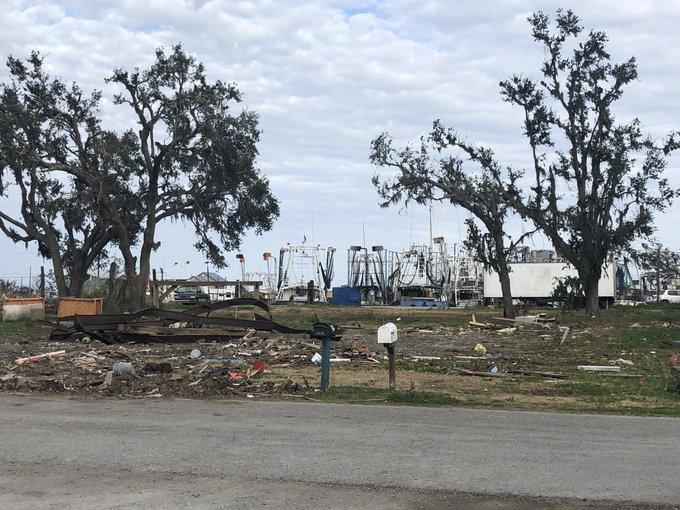destroyed: (49, 291, 643, 392)
